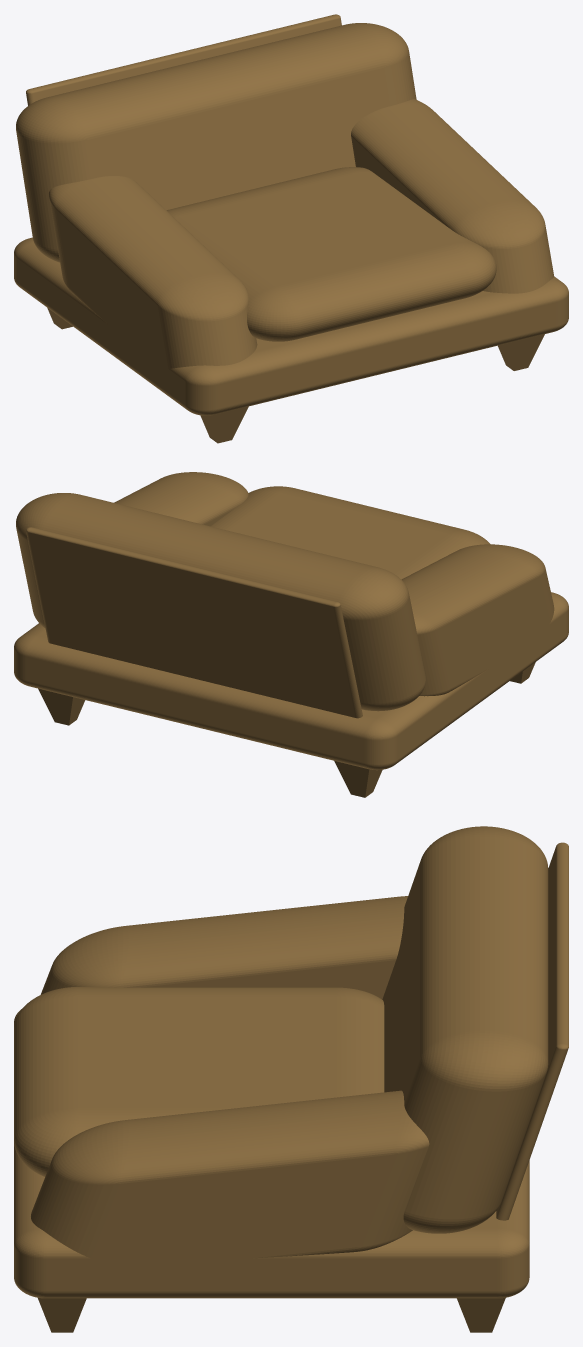
The model's file is Smashing Gogo.glb.
The picture shows the model from 3 angles, top to bottom: view 1: azimuth 30°, elevation 25°; view 2: azimuth 150°, elevation 25°; view 3: azimuth 270°, elevation 25°; orthographic projection. The views are drawn at different scales.
Visible parts, largest first — view 1: Mesh_Mesh_head_geo.001_lambert2SG.001; view 2: Mesh_Mesh_head_geo.001_lambert2SG.001; view 3: Mesh_Mesh_head_geo.001_lambert2SG.001.
Part boxes in pixels (bbox=[...]): Mesh_Mesh_head_geo.001_lambert2SG.001: bbox=[14, 14, 568, 443]; Mesh_Mesh_head_geo.001_lambert2SG.001: bbox=[14, 472, 568, 797]; Mesh_Mesh_head_geo.001_lambert2SG.001: bbox=[14, 826, 568, 1332].
Bounding box in the file's own units: 0.033 × 0.0183 × 0.031.
